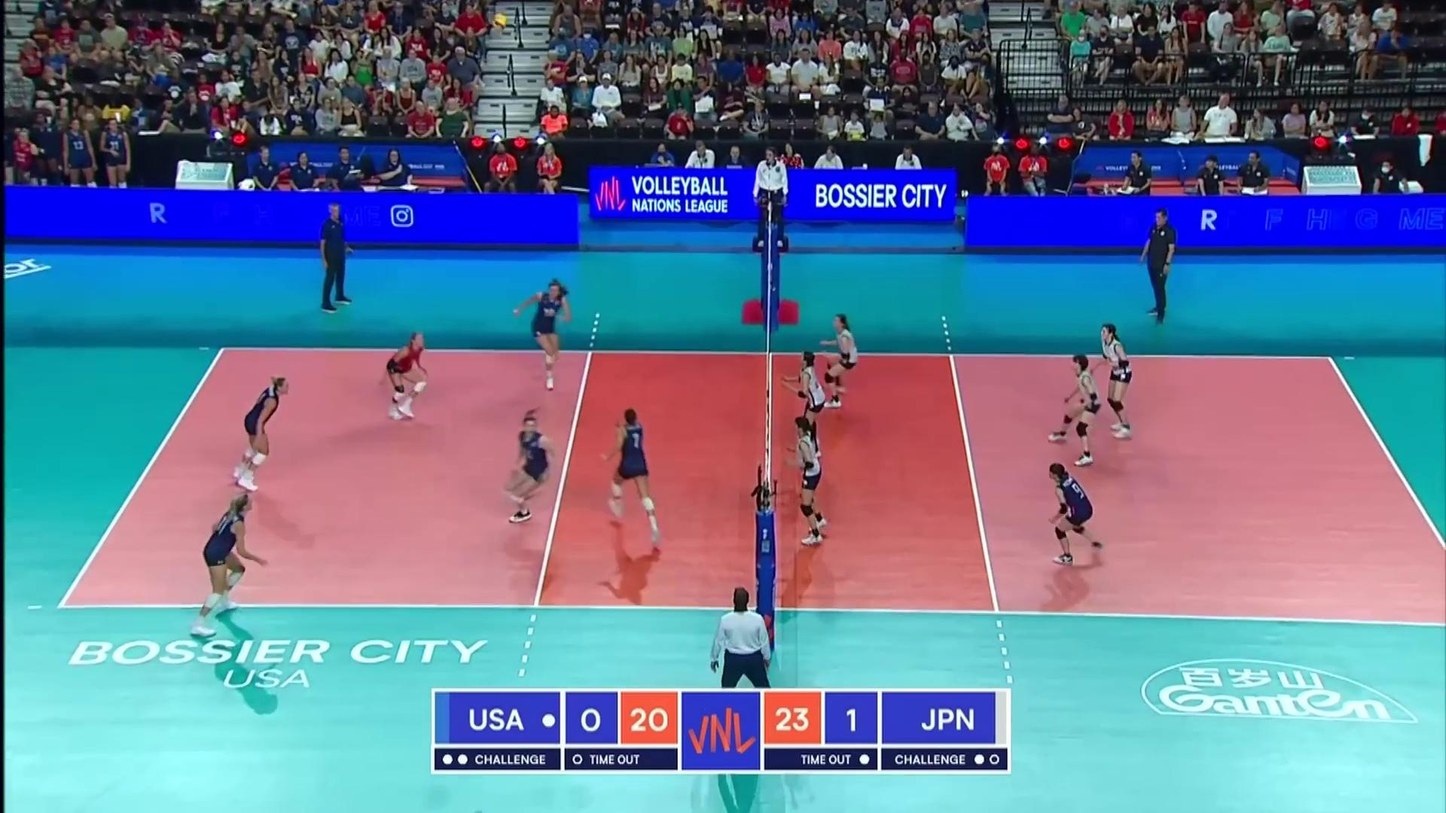player: (194, 493, 262, 630), (600, 407, 664, 545), (226, 371, 289, 490), (1044, 463, 1106, 568), (515, 280, 573, 388), (1048, 351, 1102, 467), (507, 407, 561, 522), (791, 416, 830, 545), (1094, 325, 1133, 440), (382, 332, 430, 422), (788, 347, 823, 463), (822, 315, 858, 410)
refree: (712, 584, 771, 739), (752, 148, 789, 249)
